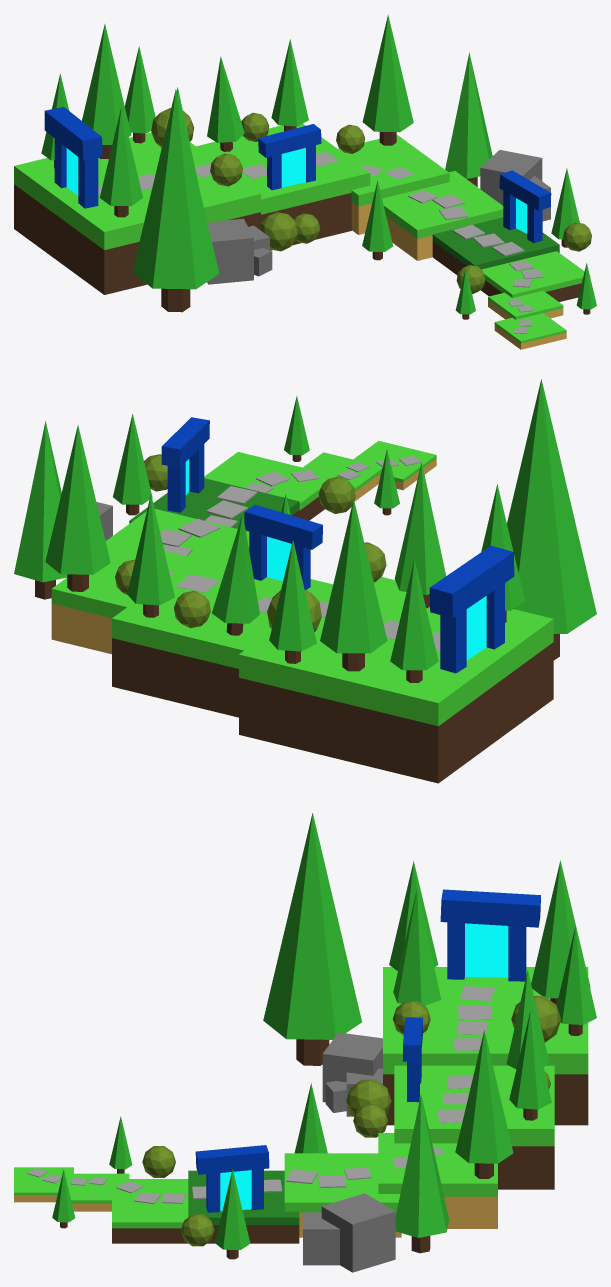
The model's file is env_fixed.glb.
3 views of the same model, one above another, from view 1: azimuth 30°, elevation 25°; view 2: azimuth 150°, elevation 25°; view 3: azimuth 270°, elevation 25° (orthographic). The views are drawn at different scales.
Visible parts, largest first — view 1: terrain, trees.008, terrain.001, terrain.004, terrain.002, terrain.005, trees.007, trees.009, terrain.006, trees.003, rocks.002, trees (+30 smaller); view 2: terrain, terrain.001, trees.008, trees.003, trees.007, terrain.002, trees.009, gates.008, trees.004, terrain.006, trees.001, trees.002 (+24 smaller); view 3: trees.008, terrain, terrain.001, terrain.002, trees.009, terrain.004, trees.007, terrain.006, rocks, terrain.005, trees.003, gates.008 (+26 smaller).
Boxes of the visible parts, <box> form: terrain: <box>14,132,260,294</box>; trees.008: <box>132,89,219,312</box>; terrain.001: <box>196,123,370,250</box>; terrain.004: <box>382,171,503,260</box>; terrain.002: <box>338,135,449,234</box>; terrain.005: <box>432,217,559,275</box>; trees.007: <box>362,14,413,145</box>; trees.009: <box>445,52,492,186</box>; terrain.006: <box>481,251,590,301</box>; trees.003: <box>82,24,131,158</box>; rocks.002: <box>207,218,253,284</box>; trees: <box>100,106,142,217</box>; terrain: <box>239,577,553,783</box>; terrain.001: <box>112,552,333,717</box>; trees.008: <box>507,379,596,660</box>; trees.003: <box>320,499,387,671</box>; trees.007: <box>45,425,110,591</box>; terrain.002: <box>51,540,193,654</box>; trees.009: <box>14,421,67,599</box>; gates.008: <box>429,545,514,618</box>; trees.004: <box>394,462,445,608</box>; terrain.006: <box>204,452,337,520</box>; trees.001: <box>390,559,438,682</box>; trees.002: <box>269,540,316,663</box>; trees.008: <box>263,813,361,1065</box>; terrain: <box>383,967,588,1125</box>; terrain.001: <box>394,1065,554,1189</box>; terrain.002: <box>378,1133,497,1228</box>; trees.009: <box>395,1094,449,1253</box>; terrain.004: <box>284,1153,401,1237</box>; trees.007: <box>455,1030,513,1178</box>; terrain.006: <box>112,1179,188,1243</box>; rocks: <box>321,1193,395,1272</box>; terrain.005: <box>188,1170,299,1243</box>; trees.003: <box>531,860,590,1004</box>; gates.008: <box>440,889,540,927</box>.
Size of what is drawn, in the model's own units: 17.12 by 8.51 by 17.93.
